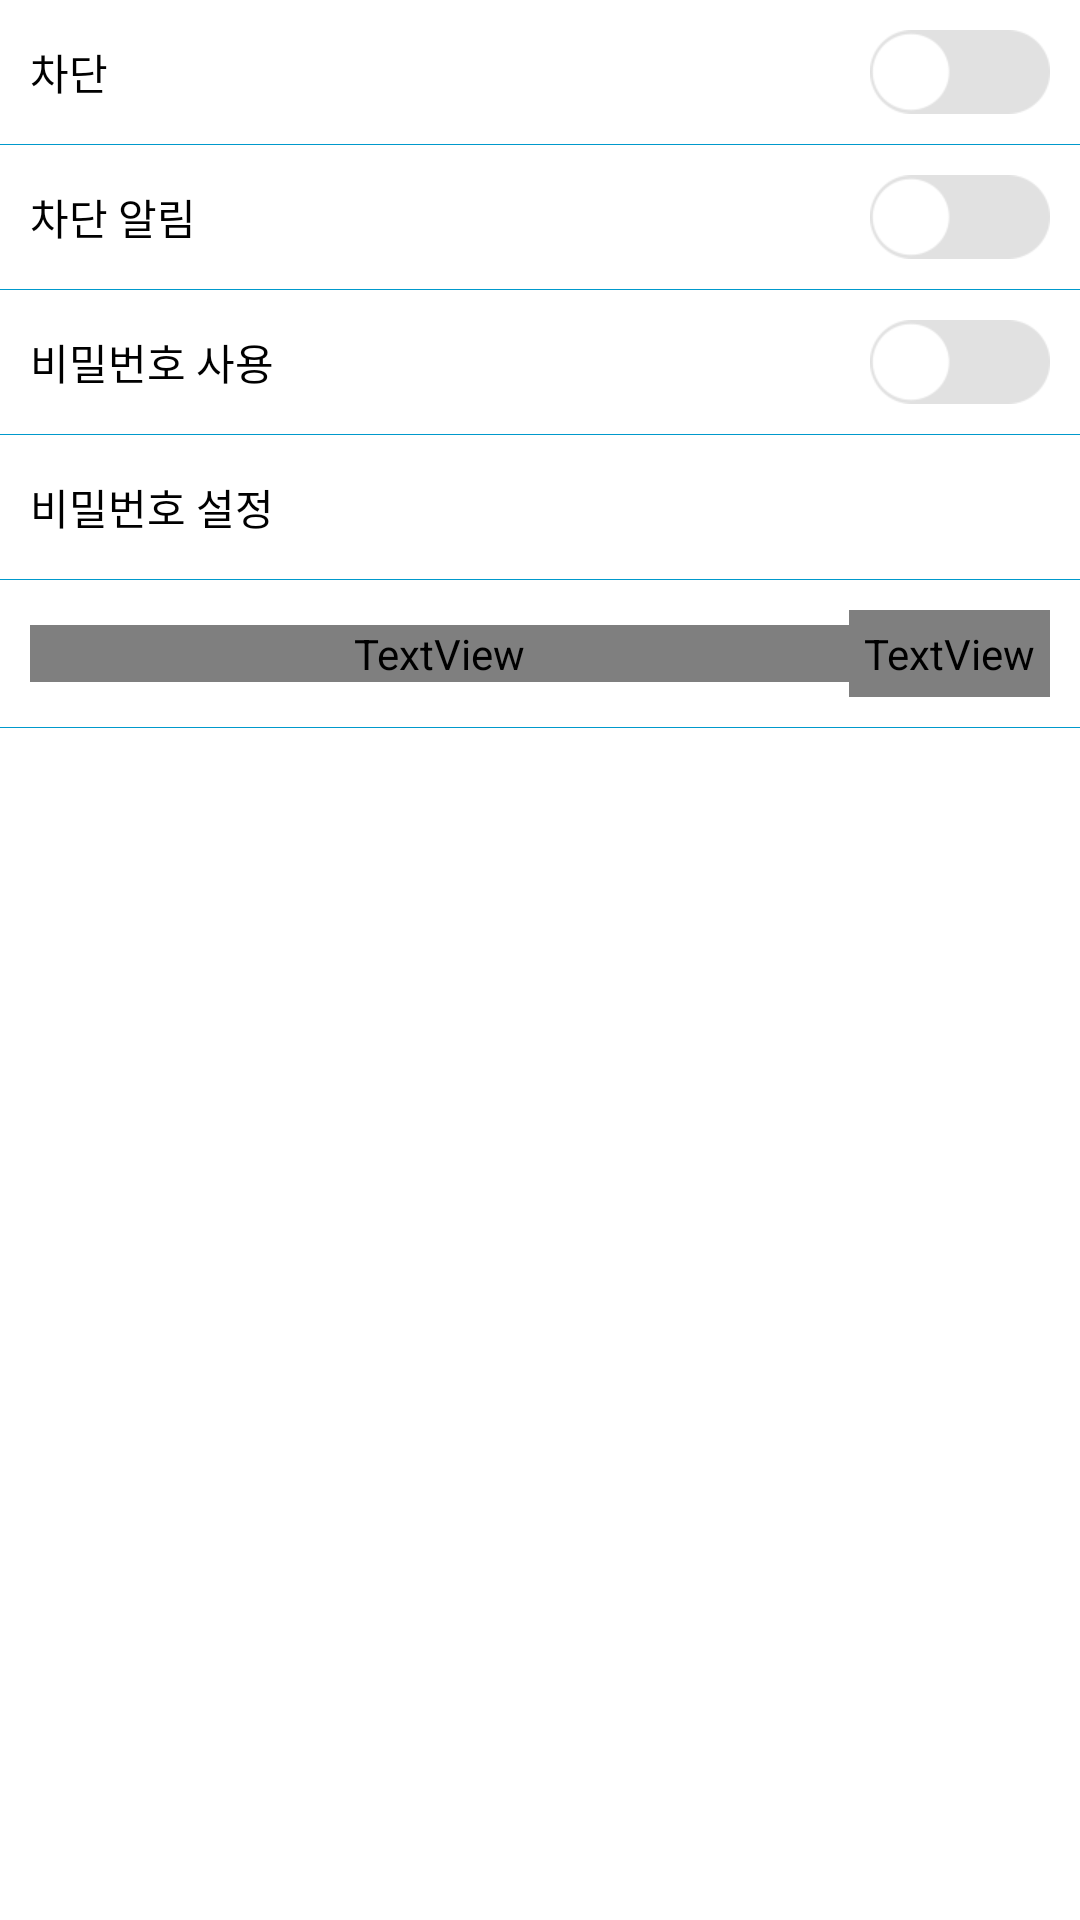

Icon click points for this 1080 × 1920 phone screenshot, format (x=x, y=y):
toggle: (x=960, y=72), (x=960, y=217), (x=960, y=362)
